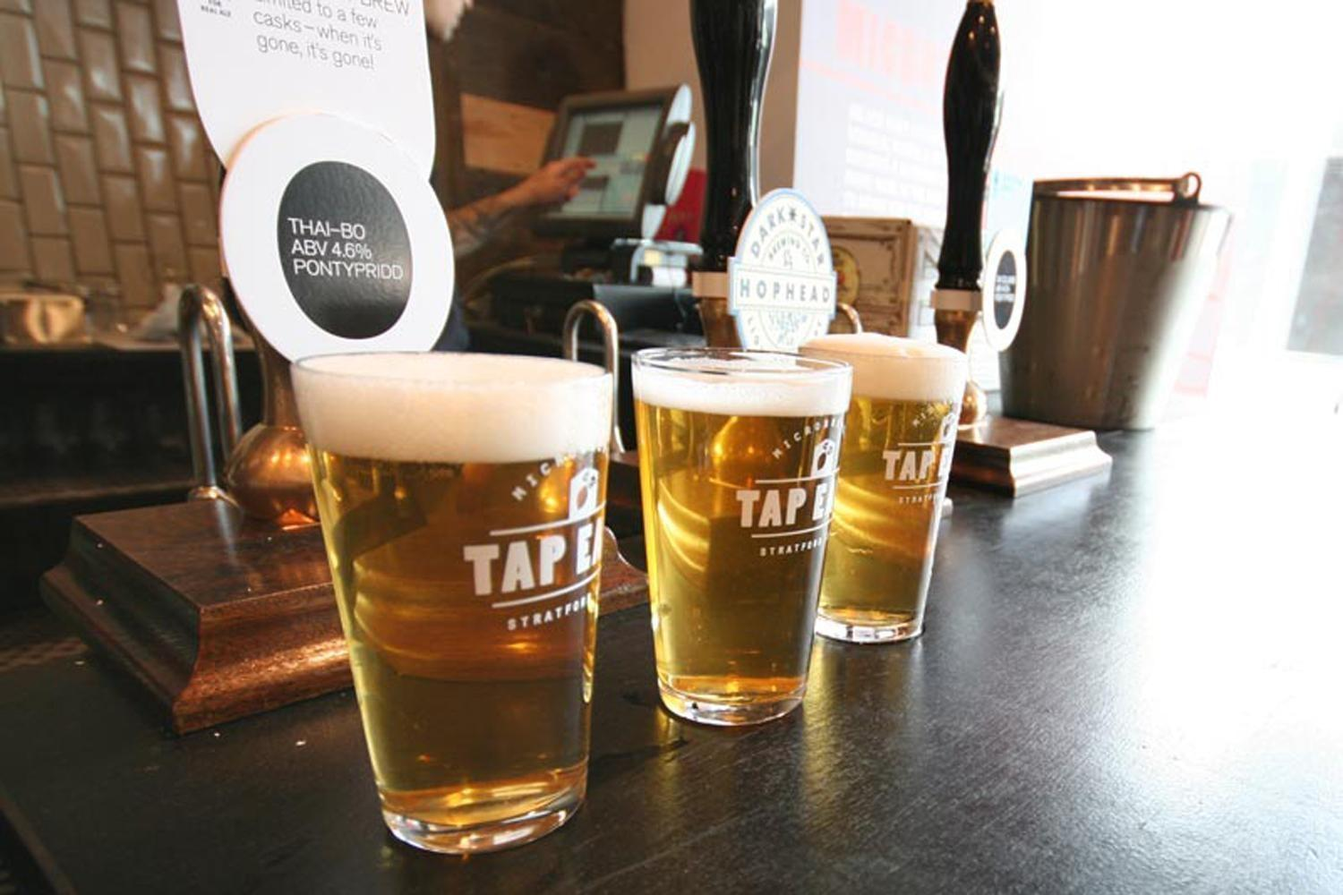glass-normal: (287, 345, 616, 854), (629, 343, 856, 728), (797, 328, 971, 639)
